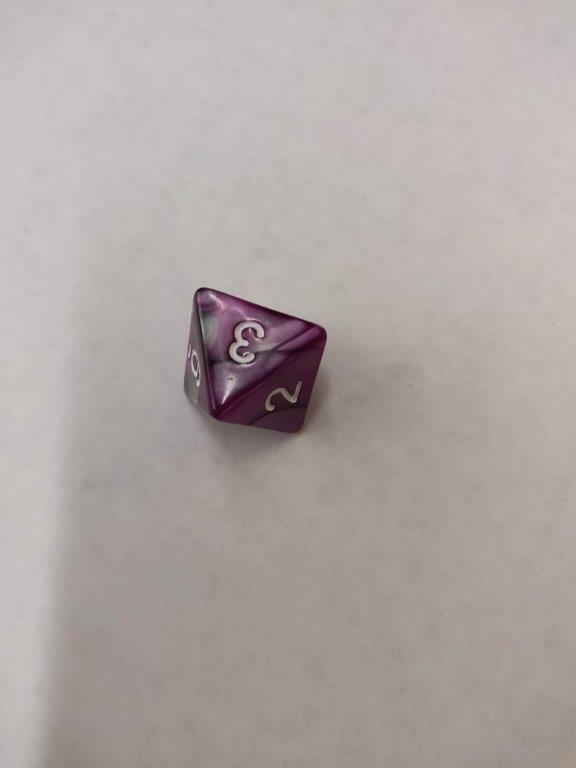d8-3: (181, 284, 327, 443)
